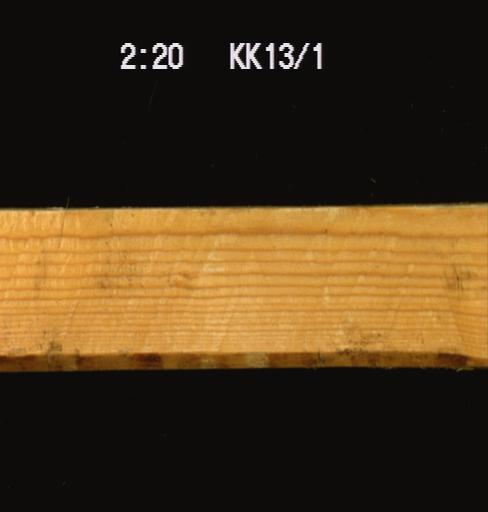wave: (0, 345, 485, 373)
